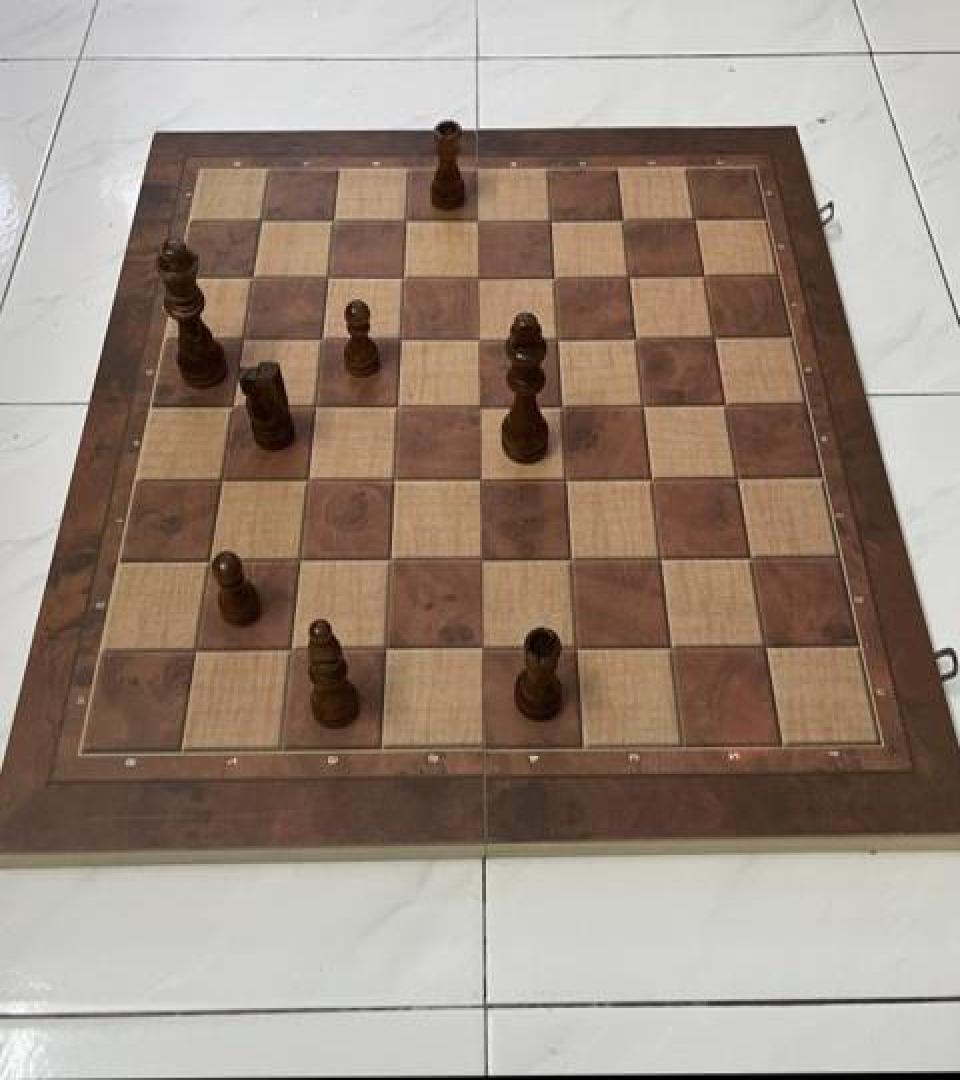xcorner: (315, 202, 349, 241), (387, 202, 421, 241), (459, 202, 493, 241), (531, 202, 565, 241), (604, 201, 638, 240), (676, 201, 710, 240), (242, 204, 276, 242), (234, 260, 268, 298), (309, 260, 343, 298), (384, 259, 418, 297), (460, 259, 494, 297), (535, 259, 569, 297), (610, 258, 644, 296), (685, 258, 719, 296), (225, 322, 259, 360), (303, 321, 337, 359), (382, 321, 416, 359), (460, 321, 494, 359), (539, 320, 573, 358), (617, 320, 651, 358), (695, 318, 729, 356), (214, 388, 248, 426), (297, 388, 331, 426), (379, 387, 413, 425), (461, 387, 495, 425), (543, 387, 577, 425), (624, 386, 658, 424), (706, 386, 740, 424), (203, 462, 237, 500), (289, 462, 323, 500), (375, 460, 409, 498), (461, 460, 495, 498), (547, 459, 581, 497), (633, 459, 667, 497), (718, 459, 752, 497), (191, 542, 225, 580), (281, 541, 315, 579), (372, 541, 406, 579), (462, 540, 496, 578), (552, 540, 586, 578), (642, 539, 676, 577), (731, 539, 765, 577), (178, 631, 212, 669), (273, 630, 307, 668), (368, 630, 402, 668), (462, 629, 496, 667), (557, 629, 591, 667), (652, 628, 686, 666), (746, 627, 780, 665)
